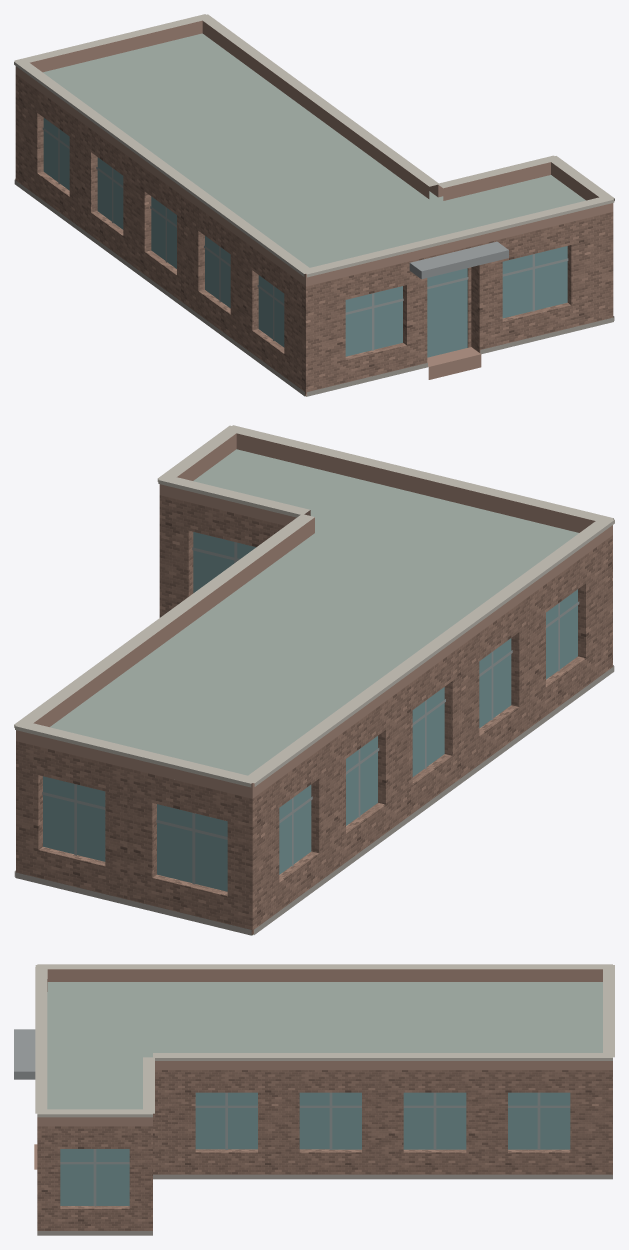
The picture shows the model from 3 angles, top to bottom: view 1: azimuth 30°, elevation 25°; view 2: azimuth 150°, elevation 25°; view 3: azimuth 270°, elevation 25°; orthographic projection. The views are drawn at different scales.
Visible parts, largest first — view 1: annex8088__roof, annex8088__wall, annex8088__glass, annex8088__parapet, annex8088__trim, annex8088__base, annex8088__canopy, annex8088__frame, annex8088__entranceThreshold_0; view 2: annex8088__roof, annex8088__wall, annex8088__glass, annex8088__parapet, annex8088__trim, annex8088__base, annex8088__frame; view 3: annex8088__roof, annex8088__wall, annex8088__glass, annex8088__parapet, annex8088__trim, annex8088__base, annex8088__frame, annex8088__canopy.
Part boxes in pixels (bbox=[...]): annex8088__roof: bbox=[43, 33, 585, 396]; annex8088__wall: bbox=[15, 74, 613, 396]; annex8088__glass: bbox=[43, 118, 567, 357]; annex8088__parapet: bbox=[15, 20, 613, 286]; annex8088__trim: bbox=[14, 14, 614, 277]; annex8088__base: bbox=[14, 178, 614, 396]; annex8088__canopy: bbox=[409, 241, 508, 279]; annex8088__frame: bbox=[42, 127, 568, 350]; annex8088__entranceThreshold_0: bbox=[427, 347, 481, 379]; annex8088__roof: bbox=[50, 449, 578, 935]; annex8088__wall: bbox=[16, 495, 612, 934]; annex8088__glass: bbox=[43, 532, 577, 891]; annex8088__parapet: bbox=[16, 433, 612, 798]; annex8088__trim: bbox=[14, 425, 614, 787]; annex8088__base: bbox=[14, 665, 614, 935]; annex8088__frame: bbox=[42, 542, 579, 884]; annex8088__roof: bbox=[47, 982, 602, 1109]; annex8088__wall: bbox=[37, 1070, 612, 1230]; annex8088__glass: bbox=[60, 1092, 570, 1205]; annex8088__parapet: bbox=[37, 969, 612, 1126]; annex8088__trim: bbox=[35, 964, 614, 1117]; annex8088__base: bbox=[37, 1174, 612, 1235]; annex8088__frame: bbox=[60, 1092, 570, 1206]; annex8088__canopy: bbox=[14, 1029, 35, 1079].
Bounding box in the file's own units: 10.65 × 4.42 × 18.01.
Materials: 10 (1 with a texture image).
